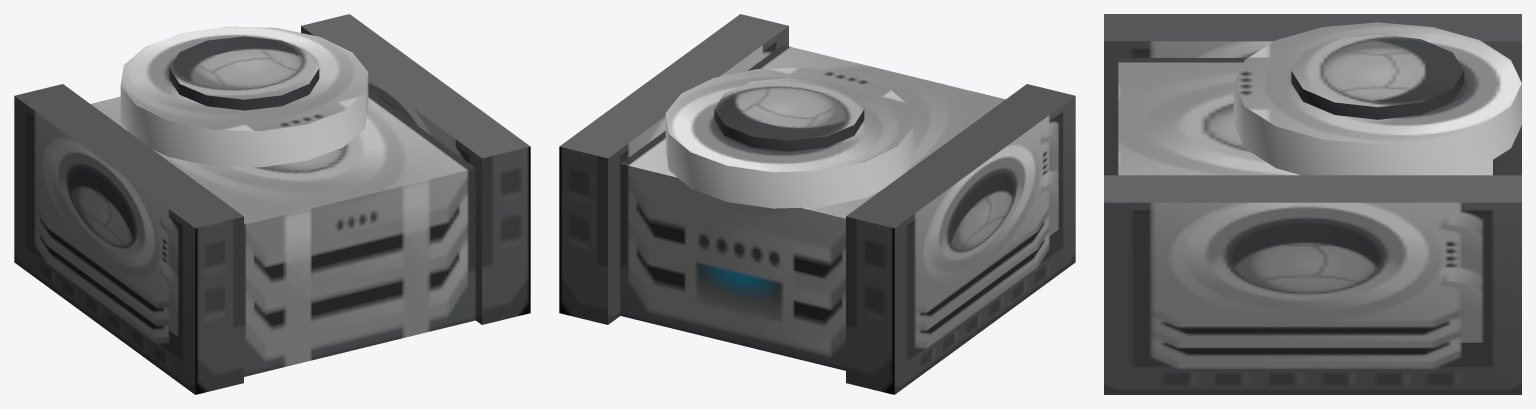
Rendered from Building_SignalJammer.obj.
3 views of the same model, side by side, from view 1: azimuth 30°, elevation 25°; view 2: azimuth 150°, elevation 25°; view 3: azimuth 270°, elevation 25° (orthographic). The views are drawn at different scales.
Parts seen in each view (by area): view 1: Body; view 2: Body; view 3: Body.
Part boxes in pixels (x1,y1,x2,y2): Body: [14, 14, 530, 394]; Body: [559, 14, 1075, 394]; Body: [1104, 14, 1521, 394].
Size of the model in its own units: 0.9688 by 0.55 by 0.9062.
Materials: 1 (1 with a texture image).
